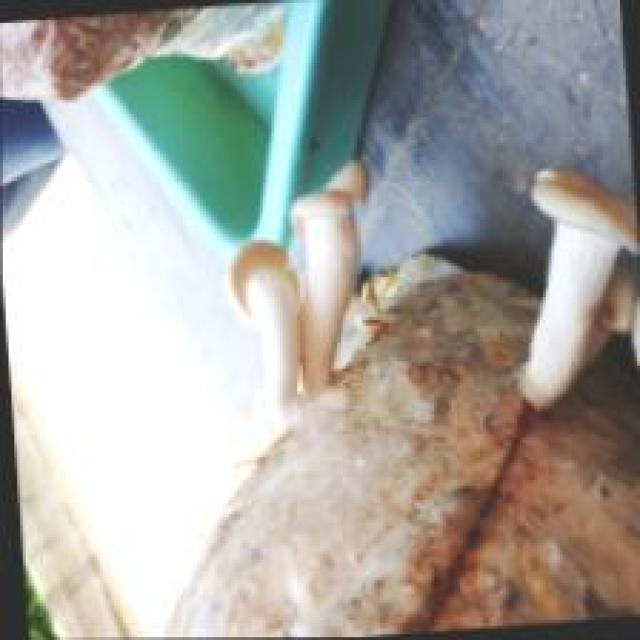field-mushroom: (514, 163, 637, 411)
